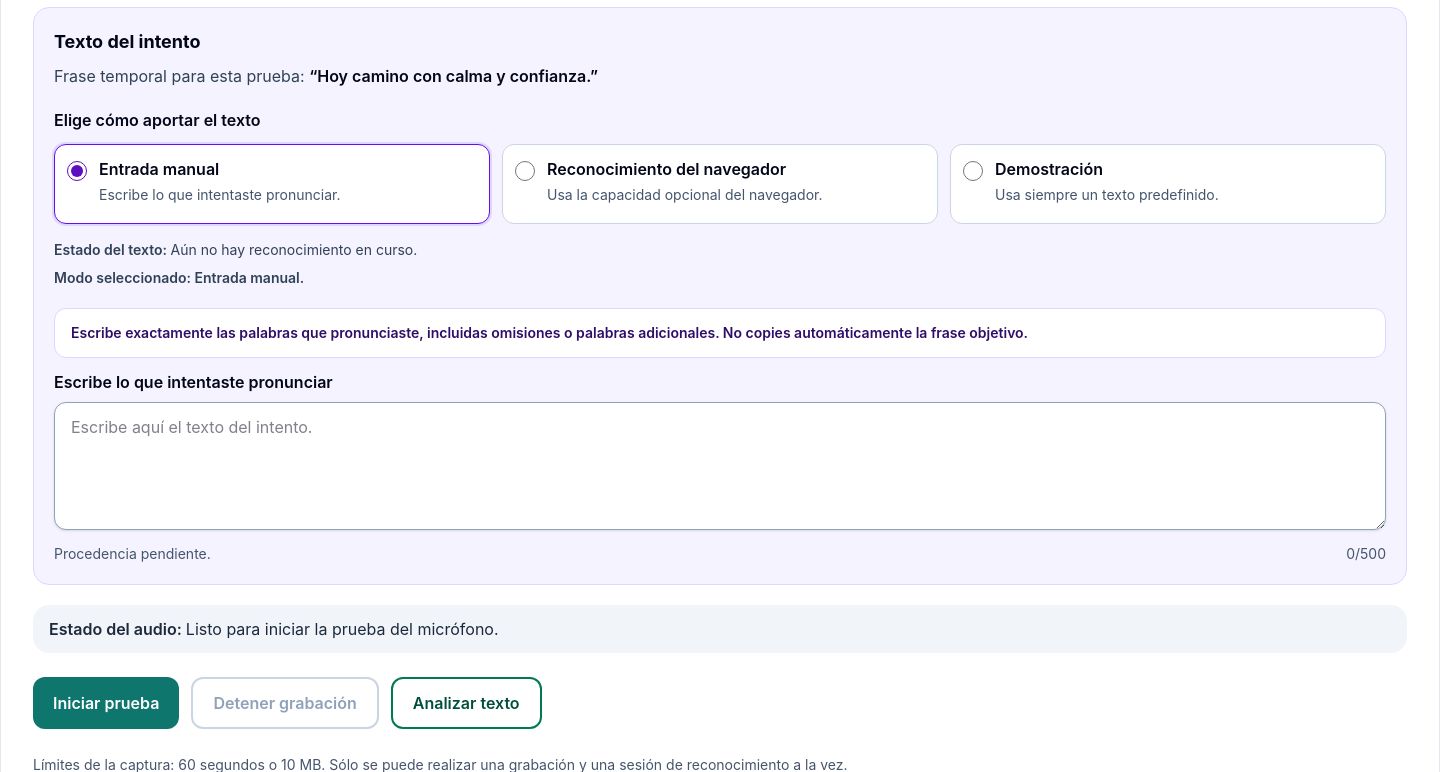
AudioRecorderCard › libera los tracks si falla la creación de MediaRecorder
(page scrolled)
Click the button "Iniciar prueba" at [106, 703], box [33, 677, 179, 729]
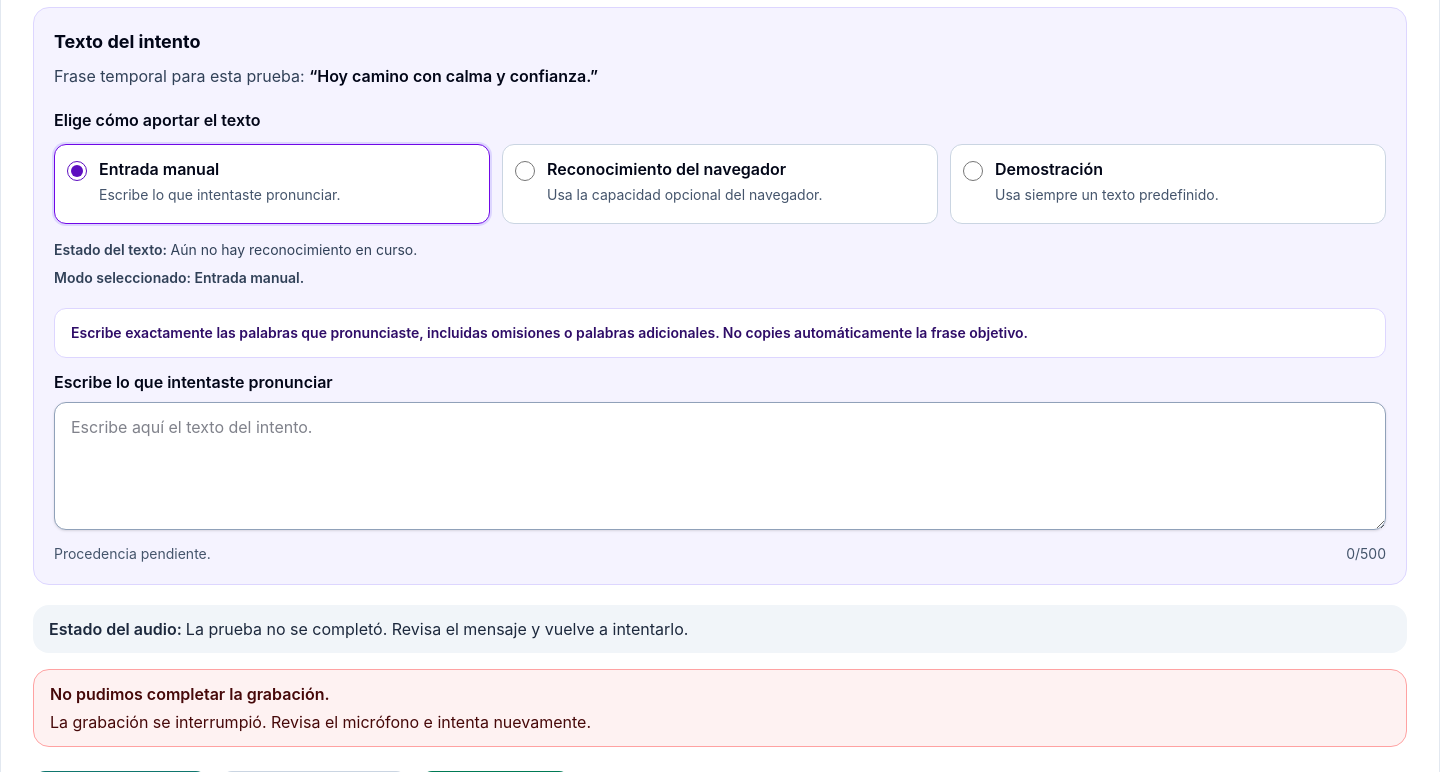
Expected: the message that starts with "No pudimos completar la grabación." shows "grabación se interrumpió", [50, 712, 591, 732]
Expected: the message that starts with "Estado del audio:" shows "no se completó", [186, 619, 688, 639]
